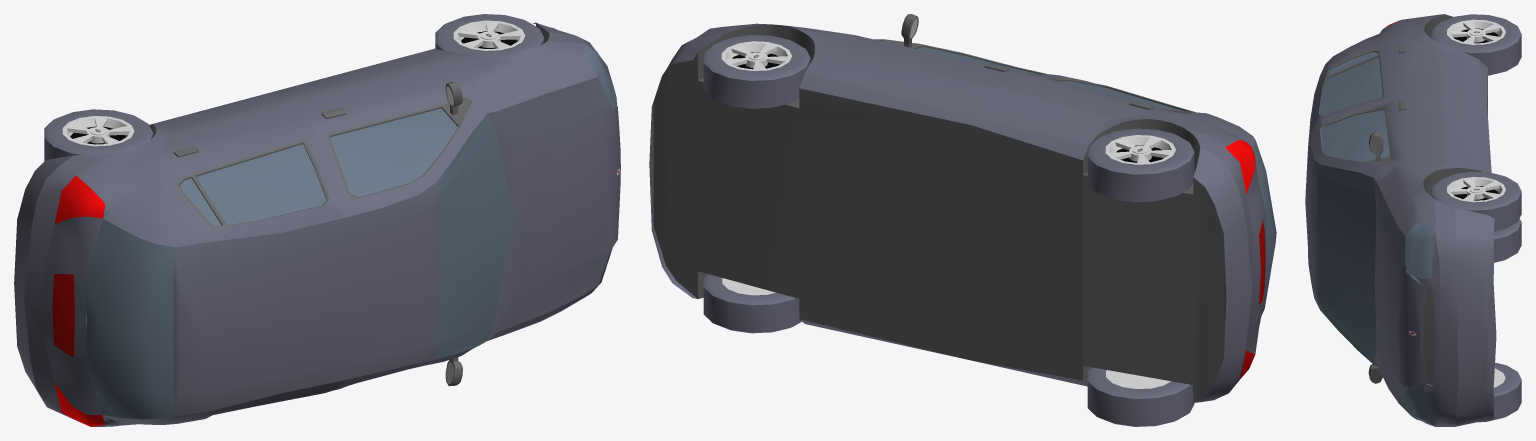
3 renders of one model, left to right at view 1: azimuth 30°, elevation 25°; view 2: azimuth 150°, elevation 25°; view 3: azimuth 270°, elevation 25°, orthographic. The views are drawn at different scales.
Parts seen in each view (by area): view 1: Object_16, Object_4, Object_6, Object_7, Object_5, Object_9; view 2: Object_12, Object_16, Object_7, Object_4, Object_6, Object_5; view 3: Object_16, Object_4, Object_6, Object_7, Object_12, Object_15.
Part boxes in pixels (x1=…): Object_16: x1=14, y1=14, x2=620, y2=426; Object_4: x1=86, y1=50, x2=616, y2=419; Object_6: x1=95, y1=34, x2=593, y2=419; Object_7: x1=62, y1=20, x2=525, y2=146; Object_5: x1=54, y1=175, x2=105, y2=426; Object_9: x1=52, y1=170, x2=619, y2=357; Object_12: x1=649, y1=24, x2=1226, y2=402; Object_16: x1=649, y1=23, x2=1266, y2=426; Object_7: x1=721, y1=41, x2=1175, y2=388; Object_4: x1=916, y1=47, x2=1276, y2=314; Object_6: x1=753, y1=14, x2=1196, y2=151; Object_5: x1=1225, y1=140, x2=1255, y2=378; Object_16: x1=1305, y1=14, x2=1521, y2=426; Object_4: x1=1316, y1=52, x2=1431, y2=423; Object_6: x1=1318, y1=31, x2=1479, y2=385; Object_7: x1=1447, y1=19, x2=1505, y2=387; Object_12: x1=1423, y1=15, x2=1487, y2=195; Object_15: x1=1453, y1=28, x2=1498, y2=200.
Bounding box in the file's own units: 3.57 × 1.74 × 1.36.
